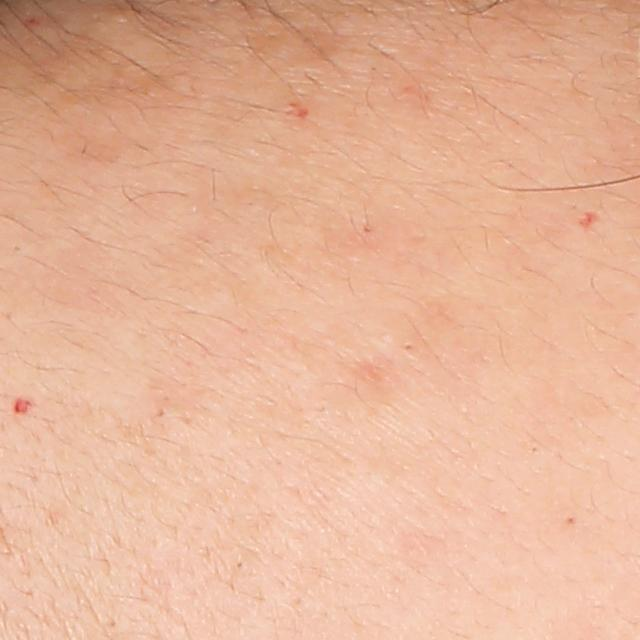comedo: (148, 402, 174, 424), (560, 507, 581, 533)
